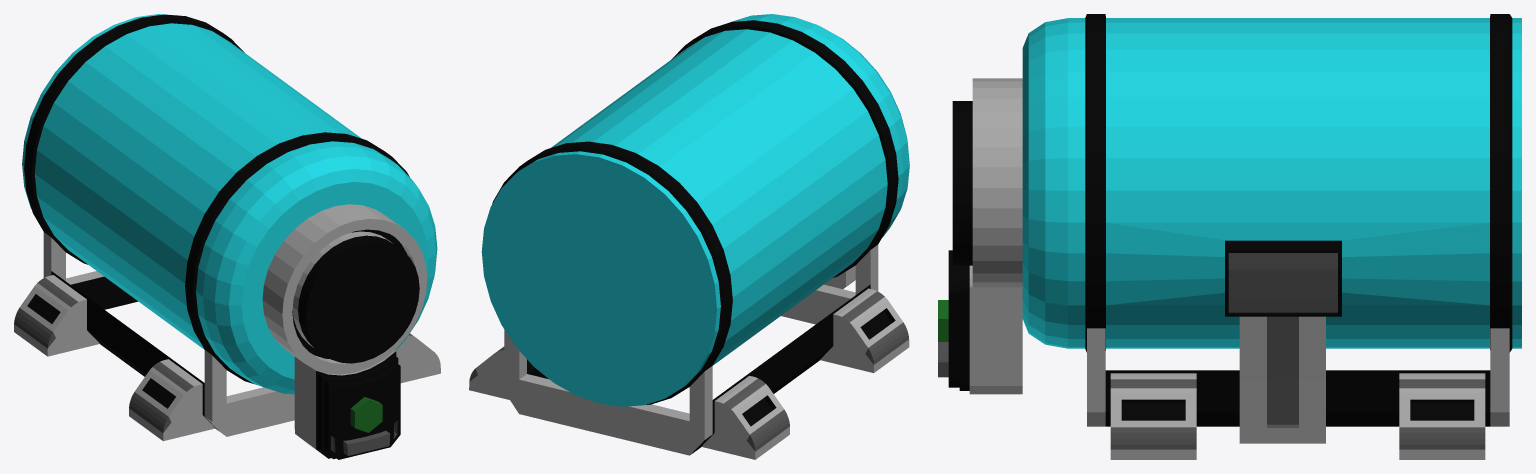
File: tanqueDeOxigeno.fbx
3 views of the same model, side by side, from view 1: azimuth 30°, elevation 25°; view 2: azimuth 150°, elevation 25°; view 3: azimuth 270°, elevation 25° (orthographic). The views are drawn at different scales.
Visible parts, largest first — view 1: Cylinder; view 2: Cylinder; view 3: Cylinder.
Boxes of the visible parts, x1,y1,x2,y2 form: Cylinder: [14, 14, 440, 459]; Cylinder: [469, 14, 909, 459]; Cylinder: [938, 14, 1521, 459].
Size of the model in its own units: 243 by 232 by 353.
